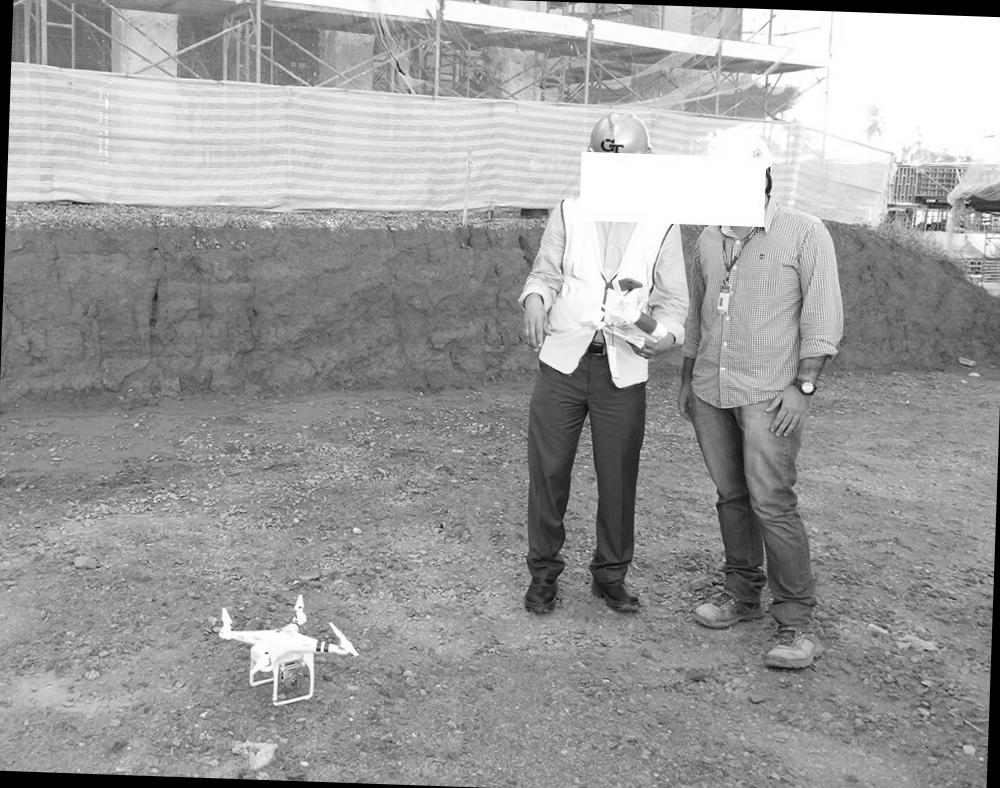drone: (211, 589, 362, 706)
